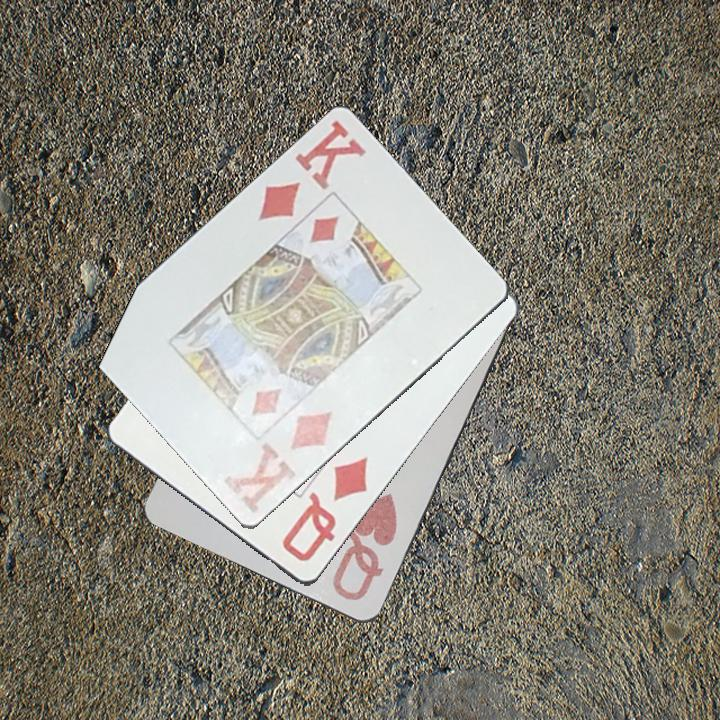Kd: (220, 408, 335, 517), (254, 117, 369, 225)
Qd: (278, 454, 371, 566)
Qh: (328, 490, 401, 605)
